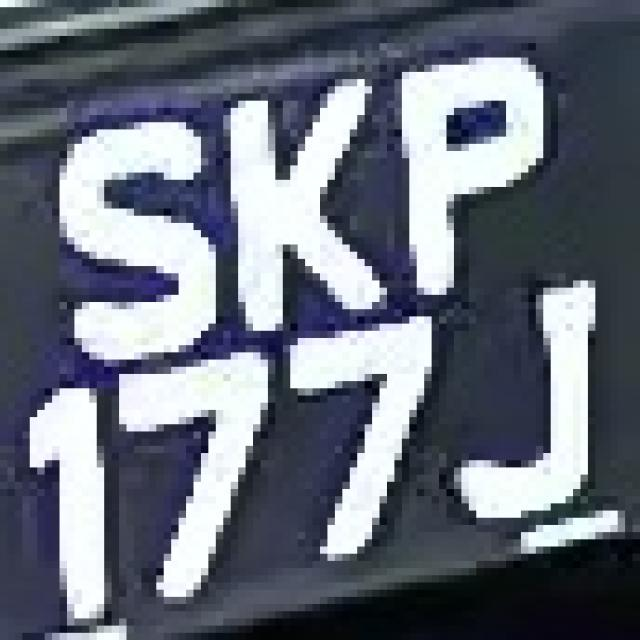1: (22, 402, 133, 640)
7: (275, 309, 454, 583), (119, 352, 290, 612)
J: (454, 259, 618, 539)
K: (186, 79, 402, 331)
P: (380, 36, 566, 316)
S: (44, 101, 216, 374)
